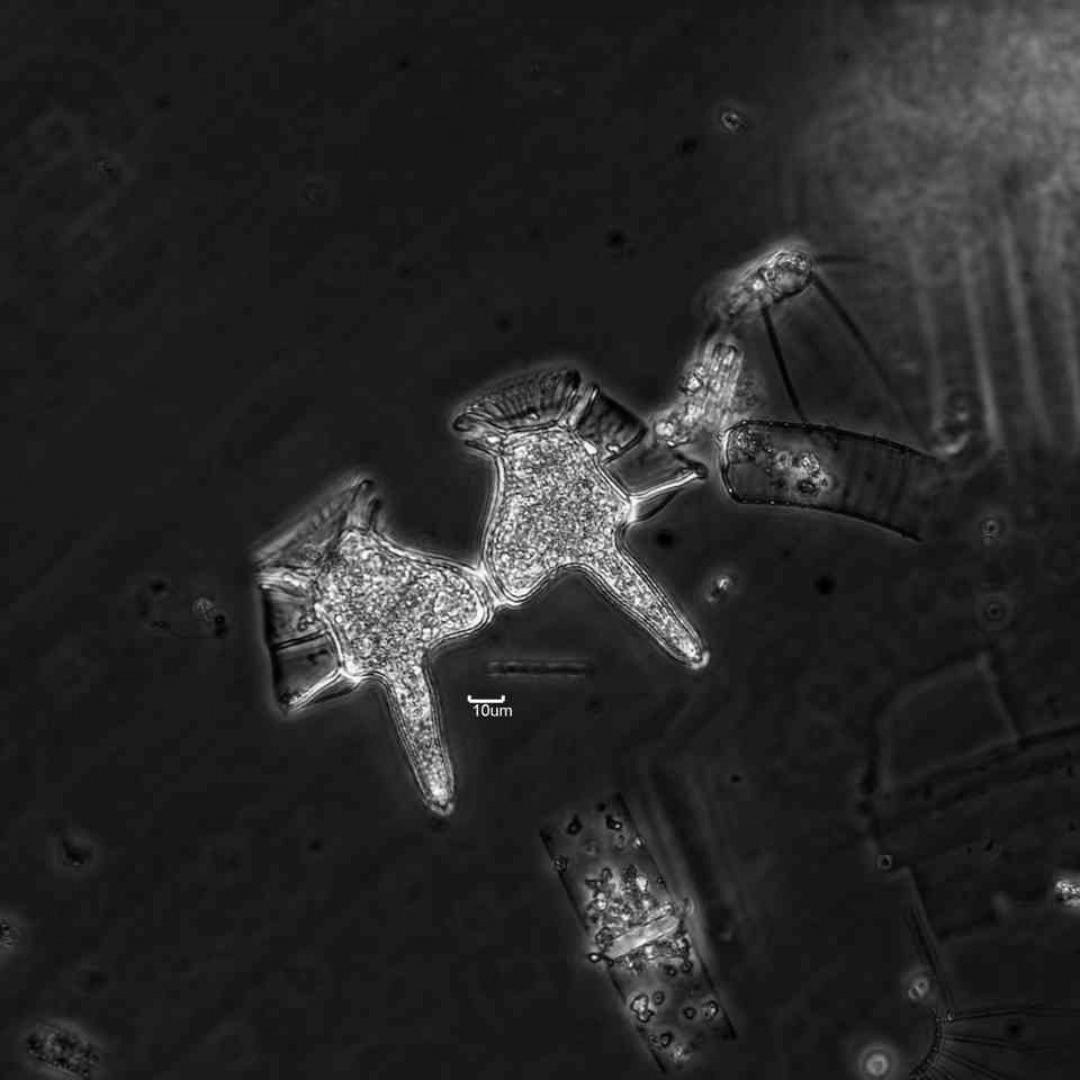dinophysis_caudata: (246, 469, 495, 814), (450, 360, 714, 666)
